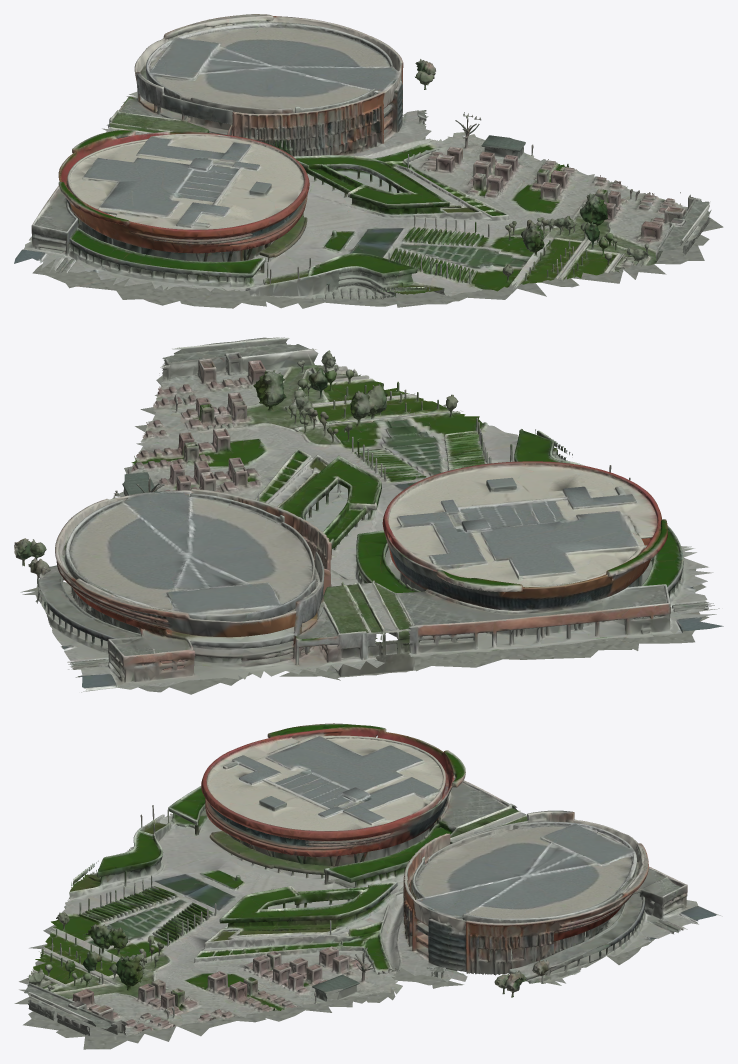
The model's file is CC_HALL_14.glb.
3 renders of one model, top to bottom at view 1: azimuth 30°, elevation 25°; view 2: azimuth 150°, elevation 25°; view 3: azimuth 270°, elevation 25°, orthographic. The views are drawn at different scales.
Visible parts, largest first — view 1: CC_HALL_14; view 2: CC_HALL_14; view 3: CC_HALL_14.
Boxes of the visible parts, x1,y1,x2,y2 form: CC_HALL_14: (14,14,723,308); CC_HALL_14: (14,337,723,694); CC_HALL_14: (14,723,722,1049).
Size of the model in its own units: 360 by 37.4 by 370.
Materials: 1 (1 with a texture image).
